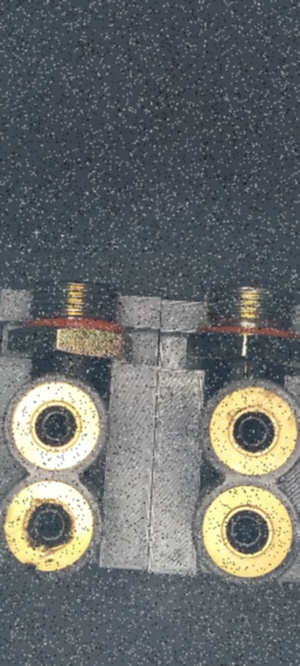bump: (21, 557, 47, 580)
craze: (240, 357, 252, 383), (64, 359, 78, 380)
